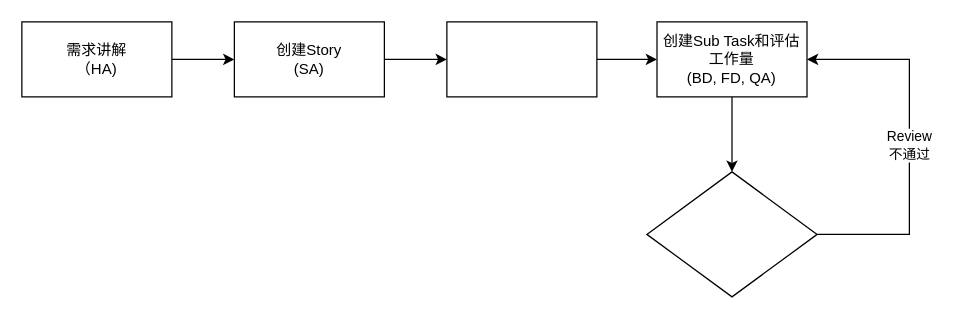
Image size: 953x319. Some labels were removed from this diagram. Here are the shapes that lost their labels. From the top down, the centre of each, then its label:
the point at 521,59: 分派Story (TL)
the point at 731,234: Review Sub Task 和评估工作量 (SBD, SFD)
